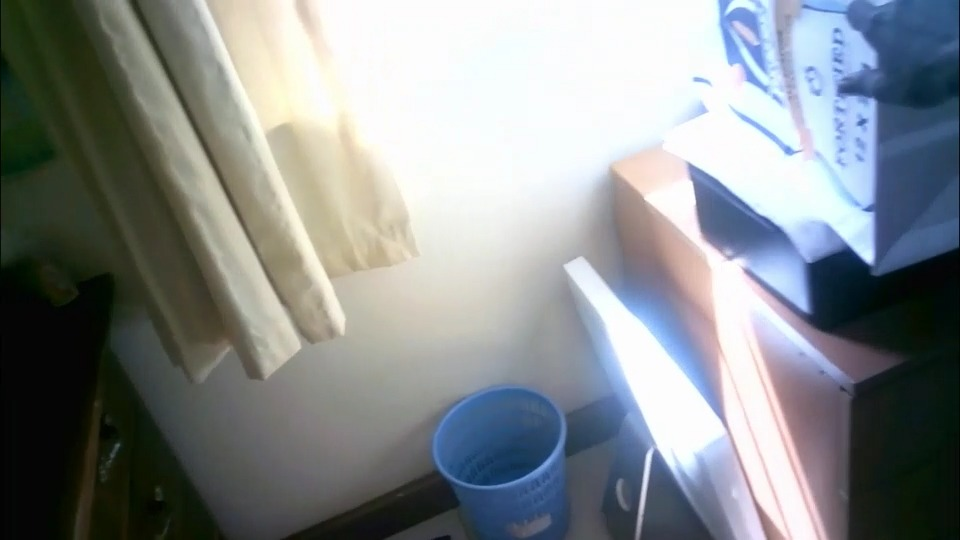wheat_flour_blue_label: (704, 2, 960, 271)
